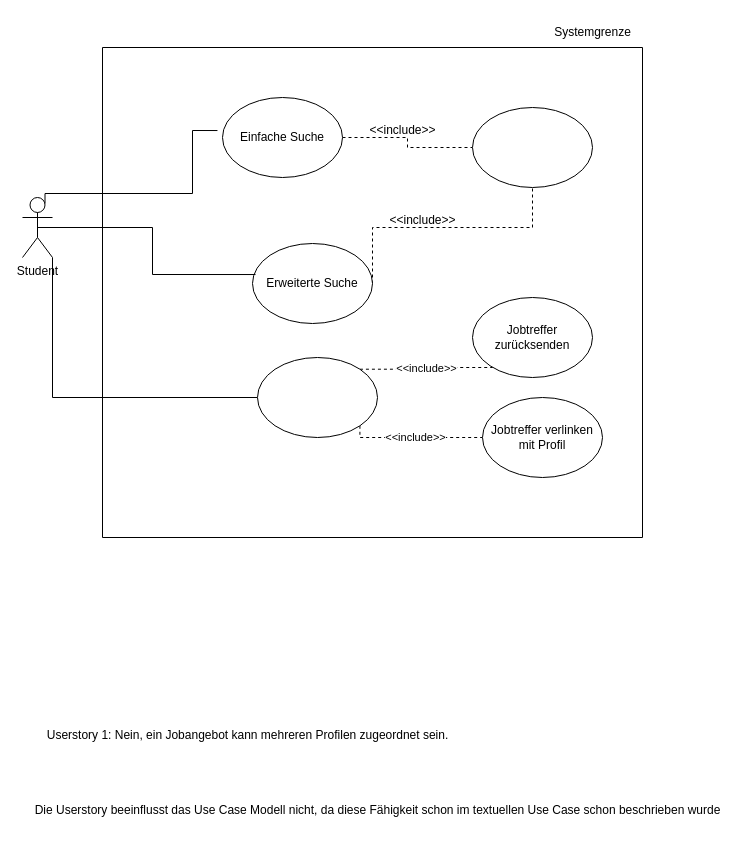
The diagram is 750 pixels wide and 842 high, and some of its shapes have lost their labels. The shapes that lost their labels are listed below. From the top down, each one's centre as x and y in pixels, then its label:
At (532,147): "Datenbank durchsuchen".
At (317,397): "Jobtreffer markieren".
